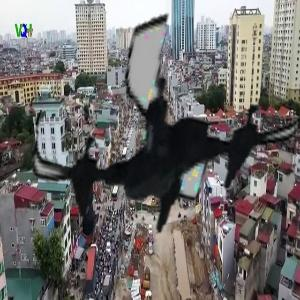drone: (35, 6, 297, 268)
